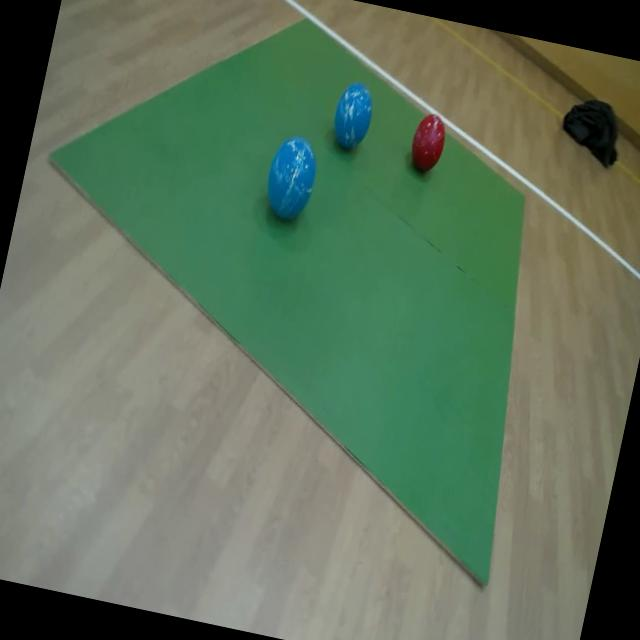blue_ball: (258, 134, 323, 228), (324, 72, 380, 156)
red_ball: (404, 107, 452, 178)
